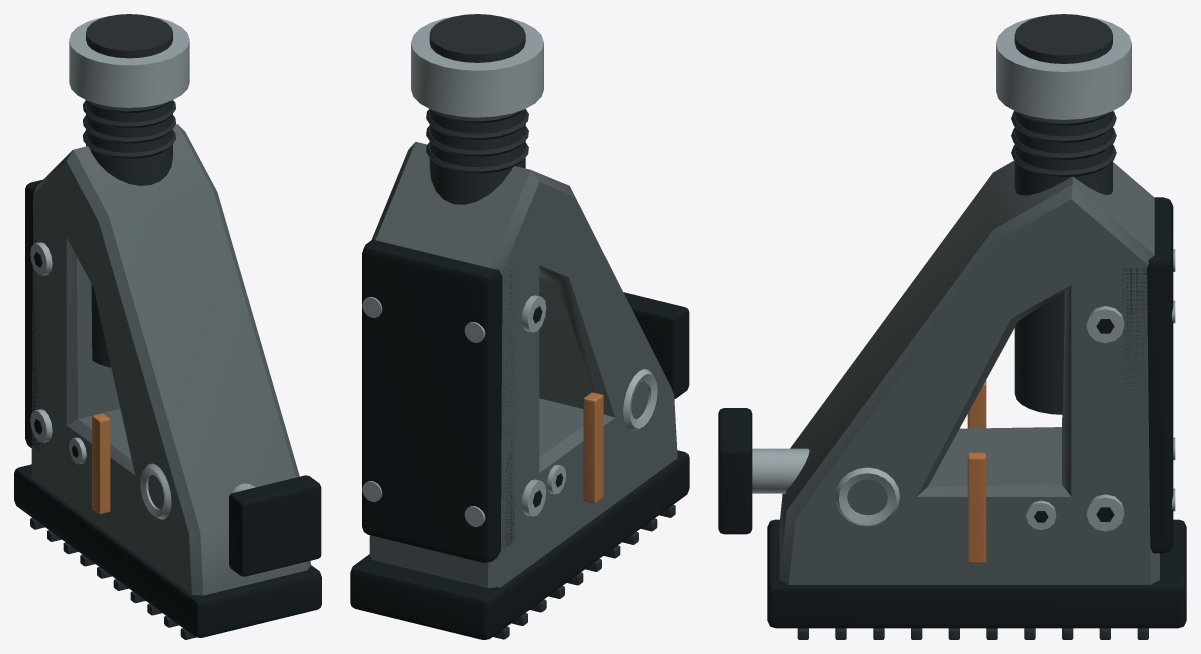
Rendered from stock-3.glb.
The picture shows the model from 3 angles, left to right: view 1: azimuth 30°, elevation 25°; view 2: azimuth 150°, elevation 25°; view 3: azimuth 270°, elevation 25°; orthographic projection. The views are drawn at different scales.
Parts seen in each view (by area): view 1: 01_Cerakote.012, 04_Elastomer.014, 02_Graphite.014, 03_Titanium.014, 05_Copper.005; view 2: 04_Elastomer.014, 01_Cerakote.012, 02_Graphite.014, 03_Titanium.014, 05_Copper.005; view 3: 01_Cerakote.012, 04_Elastomer.014, 02_Graphite.014, 03_Titanium.014, 05_Copper.005.
Boxes of the visible parts, x1,y1,x2,y2 form: 01_Cerakote.012: (31,124,310,595); 04_Elastomer.014: (14,179,321,637); 02_Graphite.014: (30,14,196,639); 03_Titanium.014: (30,16,255,519); 05_Copper.005: (92,413,110,513); 04_Elastomer.014: (350,239,689,639); 01_Cerakote.012: (369,142,677,588); 02_Graphite.014: (426,14,675,639); 03_Titanium.014: (362,17,657,526); 05_Copper.005: (583,392,603,503); 01_Cerakote.012: (779,160,1159,584); 04_Elastomer.014: (718,197,1186,628); 02_Graphite.014: (797,14,1148,639); 03_Titanium.014: (752,17,1175,531); 05_Copper.005: (967,381,986,563).
Size of the model in its own units: 0.0455 by 0.1503 by 0.1116.
